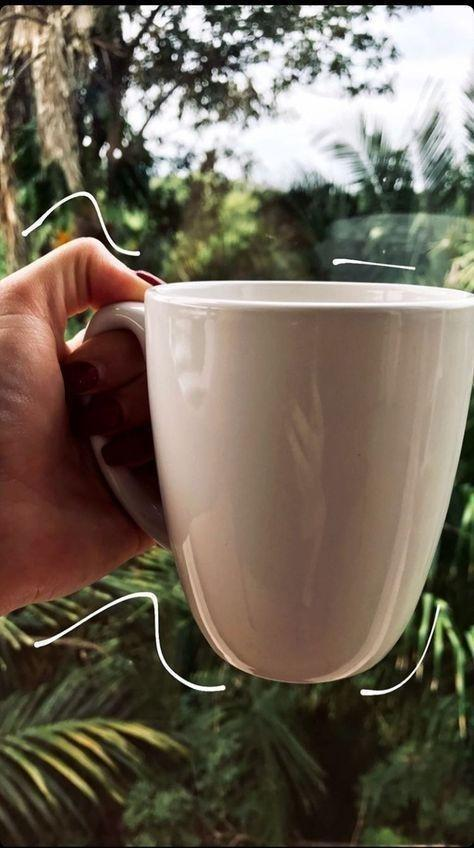cup-handle: (62, 277, 473, 689)
